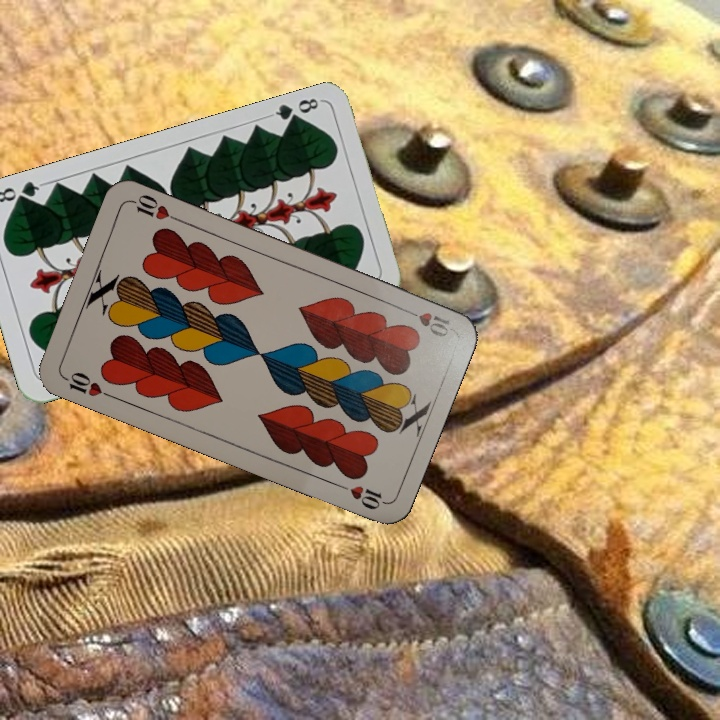G8: (265, 94, 323, 129)
H10: (398, 304, 452, 340), (59, 368, 116, 401)
